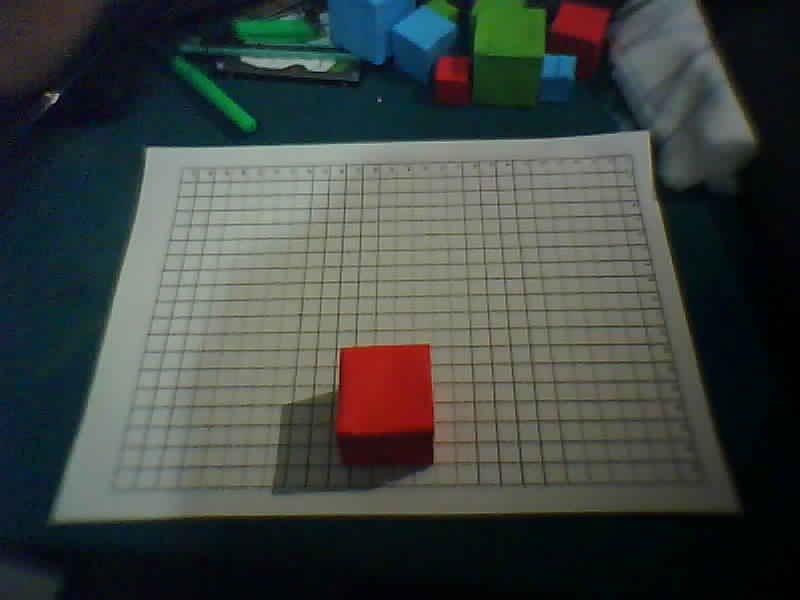red(4x4x4): (307, 332, 468, 472)
